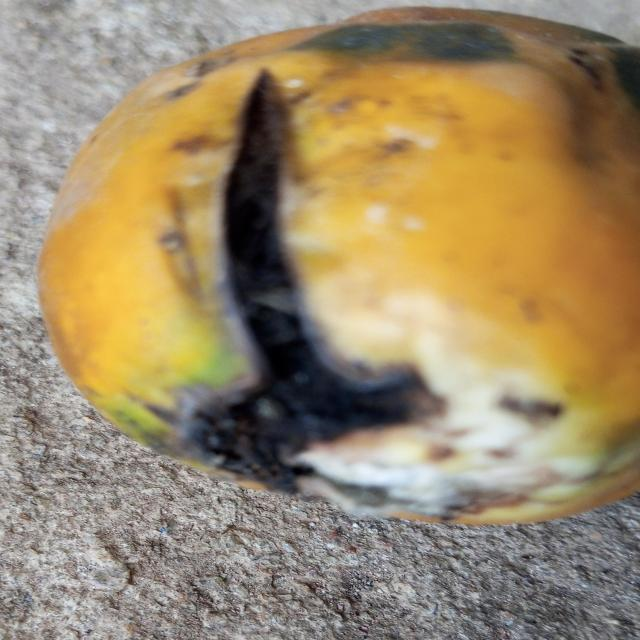damaged: (39, 8, 640, 524)
